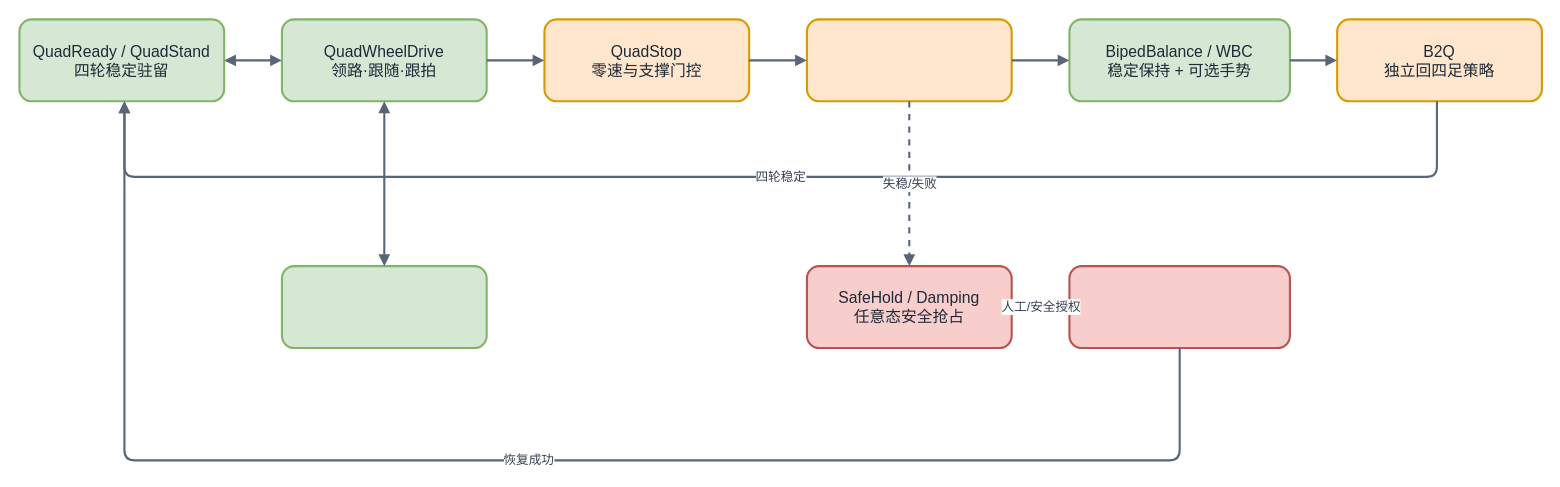
Image size: 1560x487. Some labels were removed from this diagram. The shapes that lost their labels are listed below. From the top down, each one's centre as x and y in pixels, then its label:
(908,60): Q2B 独立变形策略
(383,307): QuadTerrain 地形显式准入
(1179,307): Recovery 条件授权与次数限制
